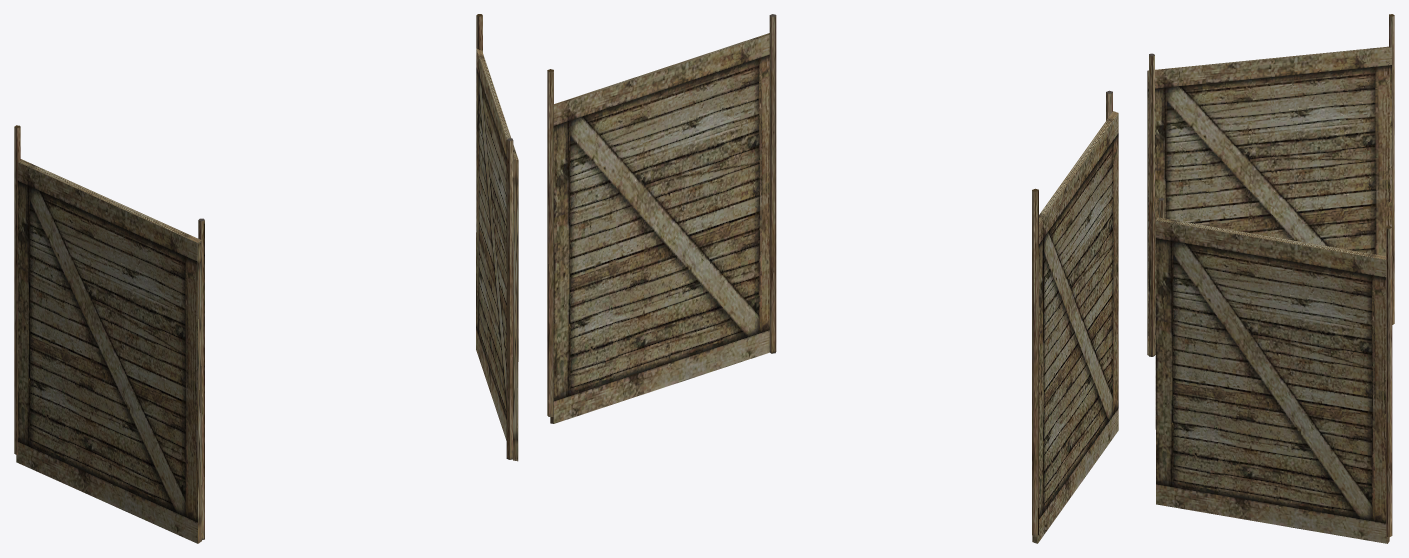
File: rome_siege_gate_door.dae
The picture shows the model from 3 angles, left to right: view 1: azimuth 30°, elevation 25°; view 2: azimuth 150°, elevation 25°; view 3: azimuth 270°, elevation 25°; orthographic projection. The views are drawn at different scales.
Visible parts, largest first — view 1: door_r; view 2: door_r; view 3: door_r.
Part boxes in pixels (x1,y1,x2,y2): door_r: (14, 14, 518, 543); door_r: (547, 14, 1118, 543); door_r: (1147, 14, 1394, 543).
Bounding box in the file's own units: 11.96 × 5.83 × 8.21.
